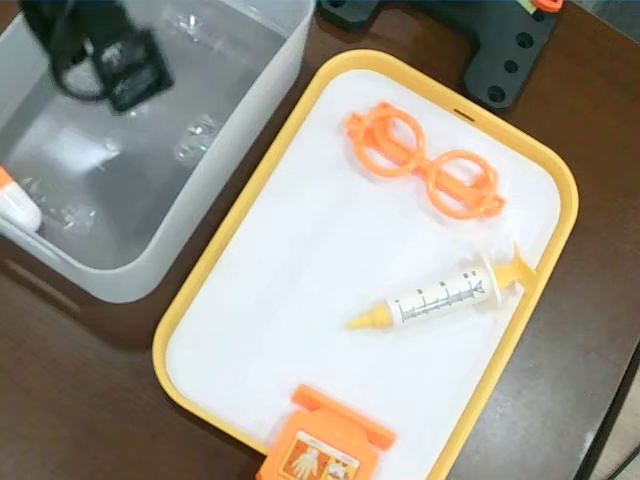pill: (0, 162, 45, 235)
syringe: (344, 242, 538, 336)
